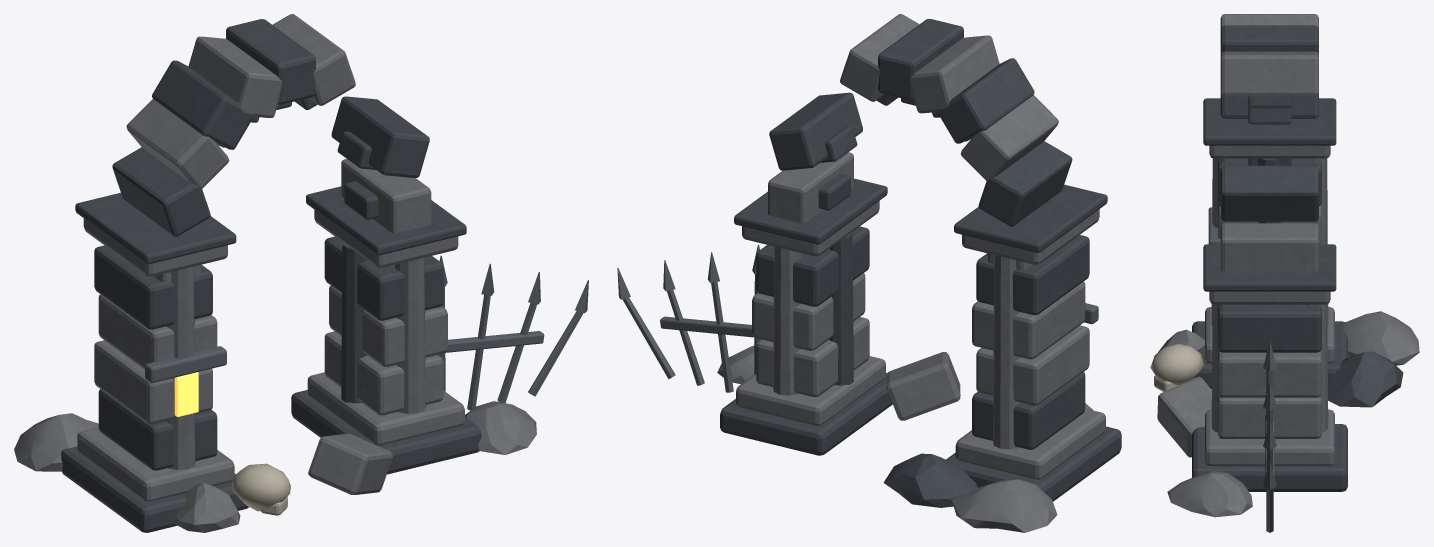
The model's file is scenery_ruin.glb.
3 renders of one model, left to right at view 1: azimuth 30°, elevation 25°; view 2: azimuth 150°, elevation 25°; view 3: azimuth 270°, elevation 25°, orthographic. The views are drawn at different scales.
Visible parts, largest first — view 1: pier plinth -1, pier sub-plinth -1, pier relic iron clamp, ruin skull, pier carved rune; view 2: pier plinth -1, pier sub-plinth -1, pier relic iron clamp; view 3: pier plinth -1, pier sub-plinth -1, pier relic iron clamp, ruin skull.
Boxes of the visible parts, left/top/right/bottom form: pier plinth -1: left=14, top=14, right=536, bottom=532; pier sub-plinth -1: left=61, top=19, right=481, bottom=532; pier relic iron clamp: left=145, top=255, right=588, bottom=410; ruin skull: left=232, top=463, right=290, bottom=515; pier carved rune: left=174, top=372, right=198, bottom=416; pier plinth -1: left=717, top=14, right=1105, bottom=532; pier sub-plinth -1: left=720, top=18, right=1121, bottom=507; pier relic iron clamp: left=617, top=244, right=1098, bottom=392; pier plinth -1: left=1157, top=14, right=1419, bottom=517; pier sub-plinth -1: left=1192, top=25, right=1403, bottom=491; pier relic iron clamp: left=1208, top=207, right=1276, bottom=532; ruin skull: left=1150, top=343, right=1204, bottom=391.
Bounding box in the file's own units: 1.86 × 1.51 × 0.9315.
5 materials, 4 textured.
